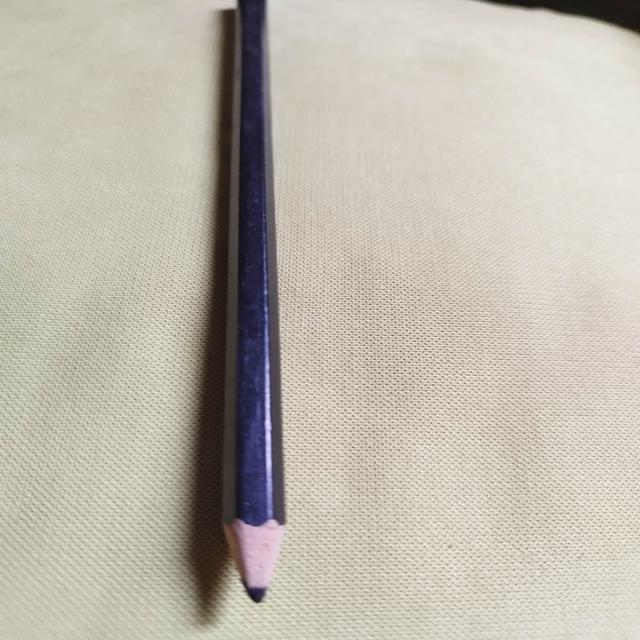pencil: (222, 0, 285, 603)
